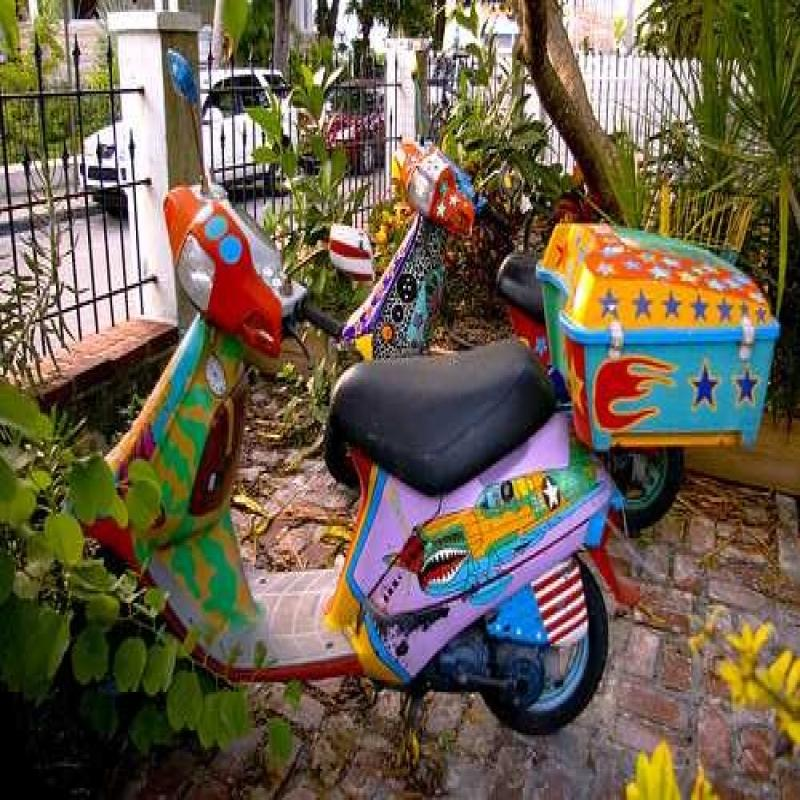bike: (86, 40, 613, 745), (326, 86, 722, 522)
